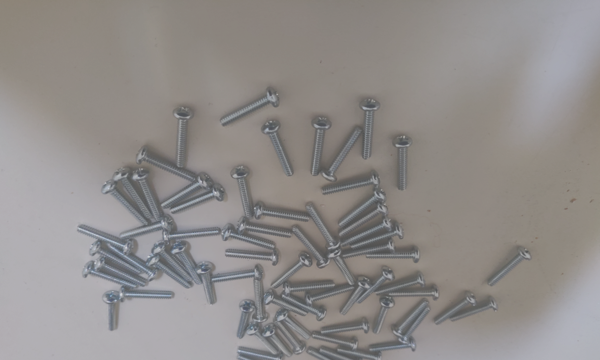longscrew: (320, 128, 364, 179), (219, 90, 277, 127), (89, 241, 143, 277), (133, 151, 197, 181), (108, 247, 161, 283), (114, 170, 152, 219), (77, 225, 137, 256), (104, 183, 145, 228), (161, 174, 211, 210), (490, 248, 533, 289), (154, 245, 197, 285), (358, 93, 383, 161), (389, 127, 414, 195), (170, 187, 224, 218), (339, 203, 389, 236), (341, 191, 390, 224), (265, 119, 291, 180), (432, 293, 478, 327), (309, 112, 333, 176), (320, 173, 381, 198), (173, 240, 206, 286), (272, 253, 311, 291), (307, 202, 339, 248), (95, 260, 147, 288), (149, 258, 194, 290), (358, 268, 395, 305), (297, 227, 327, 272), (376, 273, 426, 300), (256, 200, 314, 223), (139, 168, 165, 219), (400, 306, 433, 346), (239, 219, 296, 242), (352, 224, 404, 249), (340, 216, 393, 240), (392, 302, 428, 337), (223, 227, 280, 249), (339, 277, 370, 317), (83, 264, 134, 288), (119, 217, 174, 238), (280, 293, 326, 318), (233, 165, 254, 219), (195, 262, 220, 307), (344, 241, 397, 261), (367, 244, 420, 264), (212, 267, 267, 286), (453, 301, 498, 324), (175, 102, 191, 166), (372, 297, 398, 336), (162, 226, 221, 243), (330, 249, 357, 286), (275, 324, 306, 356), (248, 325, 280, 355), (308, 284, 354, 304), (235, 343, 289, 360), (275, 313, 309, 340), (309, 332, 362, 349), (286, 278, 336, 296), (372, 338, 417, 357), (267, 298, 308, 318), (223, 252, 284, 265), (322, 318, 370, 334), (251, 280, 269, 321), (265, 330, 291, 358), (106, 288, 122, 331), (120, 289, 176, 301), (239, 298, 254, 340), (391, 289, 441, 301), (338, 347, 382, 360), (320, 349, 360, 360), (306, 350, 346, 360), (235, 355, 284, 360)
